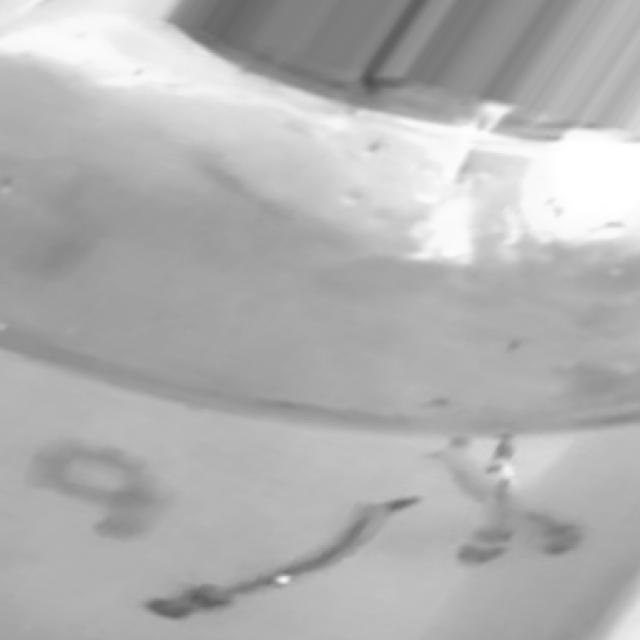larvas: (143, 475, 420, 636), (434, 433, 594, 566), (33, 441, 156, 534), (453, 443, 536, 568)
